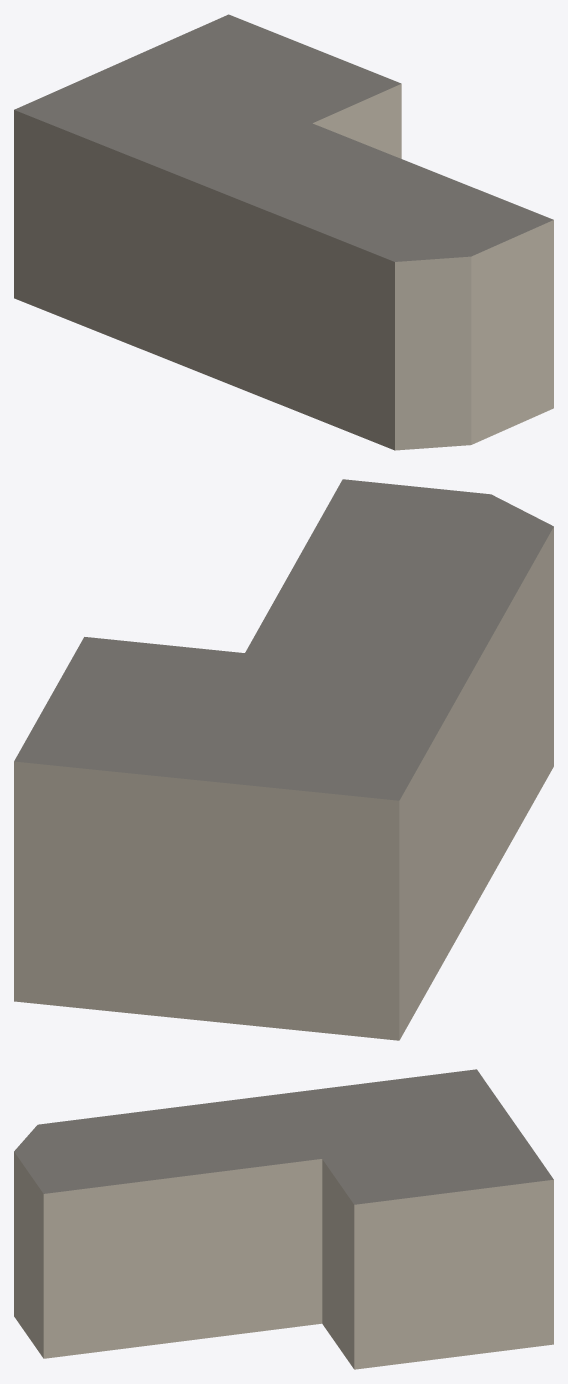
3 renders of one model, top to bottom at view 1: azimuth 30°, elevation 25°; view 2: azimuth 150°, elevation 25°; view 3: azimuth 270°, elevation 25°, orthographic. The views are drawn at different scales.
Visible parts, largest first — view 1: HP-w446937019; view 2: HP-w446937019; view 3: HP-w446937019.
Part boxes in pixels (box(x1,y1,x2,y2)): HP-w446937019: box(14, 14, 553, 450); HP-w446937019: box(14, 479, 553, 1040); HP-w446937019: box(14, 1069, 553, 1369).
Size of the model in its own units: 26.45 by 15 by 44.53.
